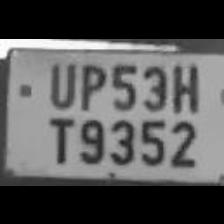2: (165, 114, 199, 168)
3: (104, 113, 136, 165), (138, 59, 168, 109)
5: (106, 55, 138, 108), (136, 113, 167, 165)
9: (74, 113, 106, 165)
H: (167, 57, 203, 112)
P: (74, 55, 106, 108)
T: (40, 112, 74, 164)
U: (44, 55, 76, 107)
